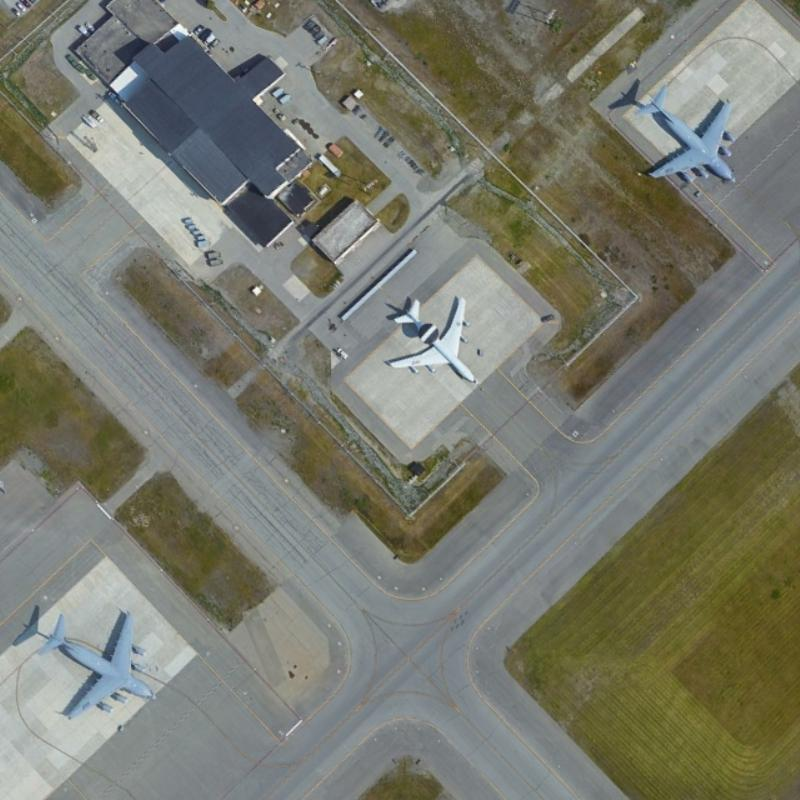A3: (31, 597, 162, 726), (628, 78, 748, 189)
A7: (376, 286, 489, 390)
